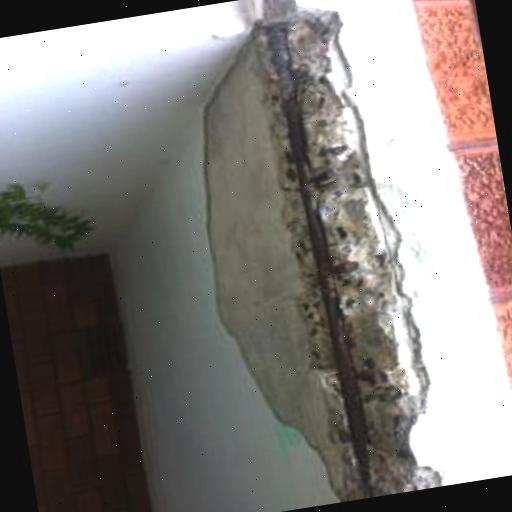spalling: (204, 1, 451, 503)
